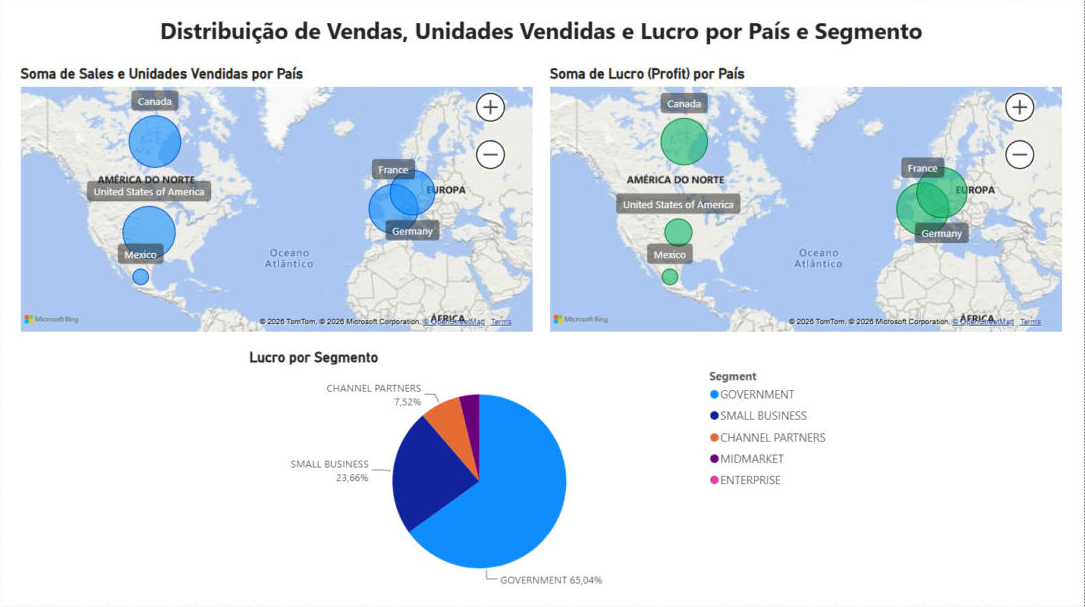

Layout of this report page (visuals, bound fields, positions):
{"tool":"powerbi","page":{"name":"Página 3","canvas":[1280,720],"ordinal":2},"visuals":[{"type":"textbox","box":[20,15,1240,55],"z":0},{"type":"map","title":"Soma de Sales e Unidades Vendidas por País","fields":{"Category":["financials.Country"],"Size":["Sum(financials. Sales)"]},"box":[20,80,615,320],"z":1000},{"type":"map","title":"Soma de Lucro (Profit) por País","fields":{"Category":["financials.Country"],"Size":["Sum(financials.Profit)"]},"box":[645,80,615,320],"z":2000},{"type":"pieChart","title":"Lucro por Segmento","fields":{"Category":["financials.Segment"],"Y":["Sum(financials.Profit)"]},"box":[290,415,700,295],"z":3000}]}

Visuals, with their boxes in screenshot pixels (x1, y1, x2, y2), scaled from the page's 1280x720 canvas onto the 1085x607 screenshot:
textbox: x1=17 y1=13 x2=1068 y2=59
"Soma de Sales e Unidades Vendidas por País" map: x1=17 y1=67 x2=538 y2=337
"Soma de Lucro (Profit) por País" map: x1=547 y1=67 x2=1068 y2=337
"Lucro por Segmento" pieChart: x1=246 y1=350 x2=839 y2=599
